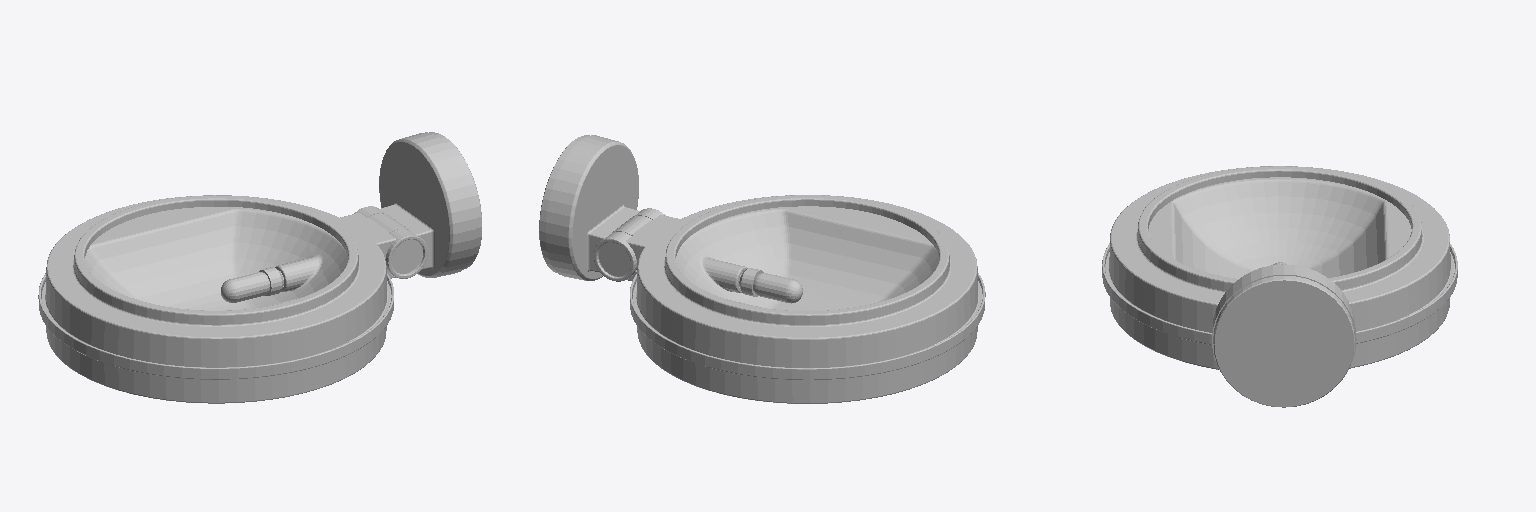
The model's file is lumiere.obj.
3 views of the same model, side by side, from view 1: azimuth 30°, elevation 25°; view 2: azimuth 150°, elevation 25°; view 3: azimuth 270°, elevation 25° (orthographic).
Parts seen in each view (by area): view 1: mpm_vol.04_p21.001; view 2: mpm_vol.04_p21.001; view 3: mpm_vol.04_p21.001.
Part boxes in pixels (x1,y1,x2,y2): mpm_vol.04_p21.001: (38, 132, 481, 403); mpm_vol.04_p21.001: (539, 135, 985, 403); mpm_vol.04_p21.001: (1102, 166, 1457, 407).
Size of the model in its own units: 28.45 by 10.09 by 22.64.